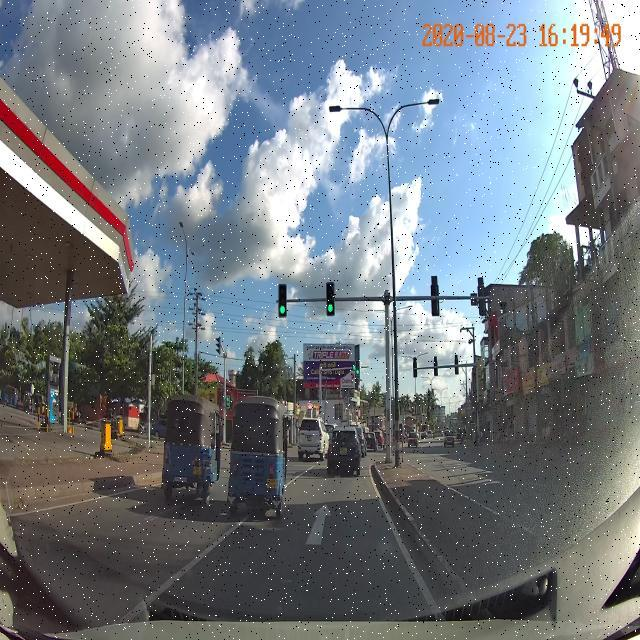forward: (208, 504, 409, 556)
